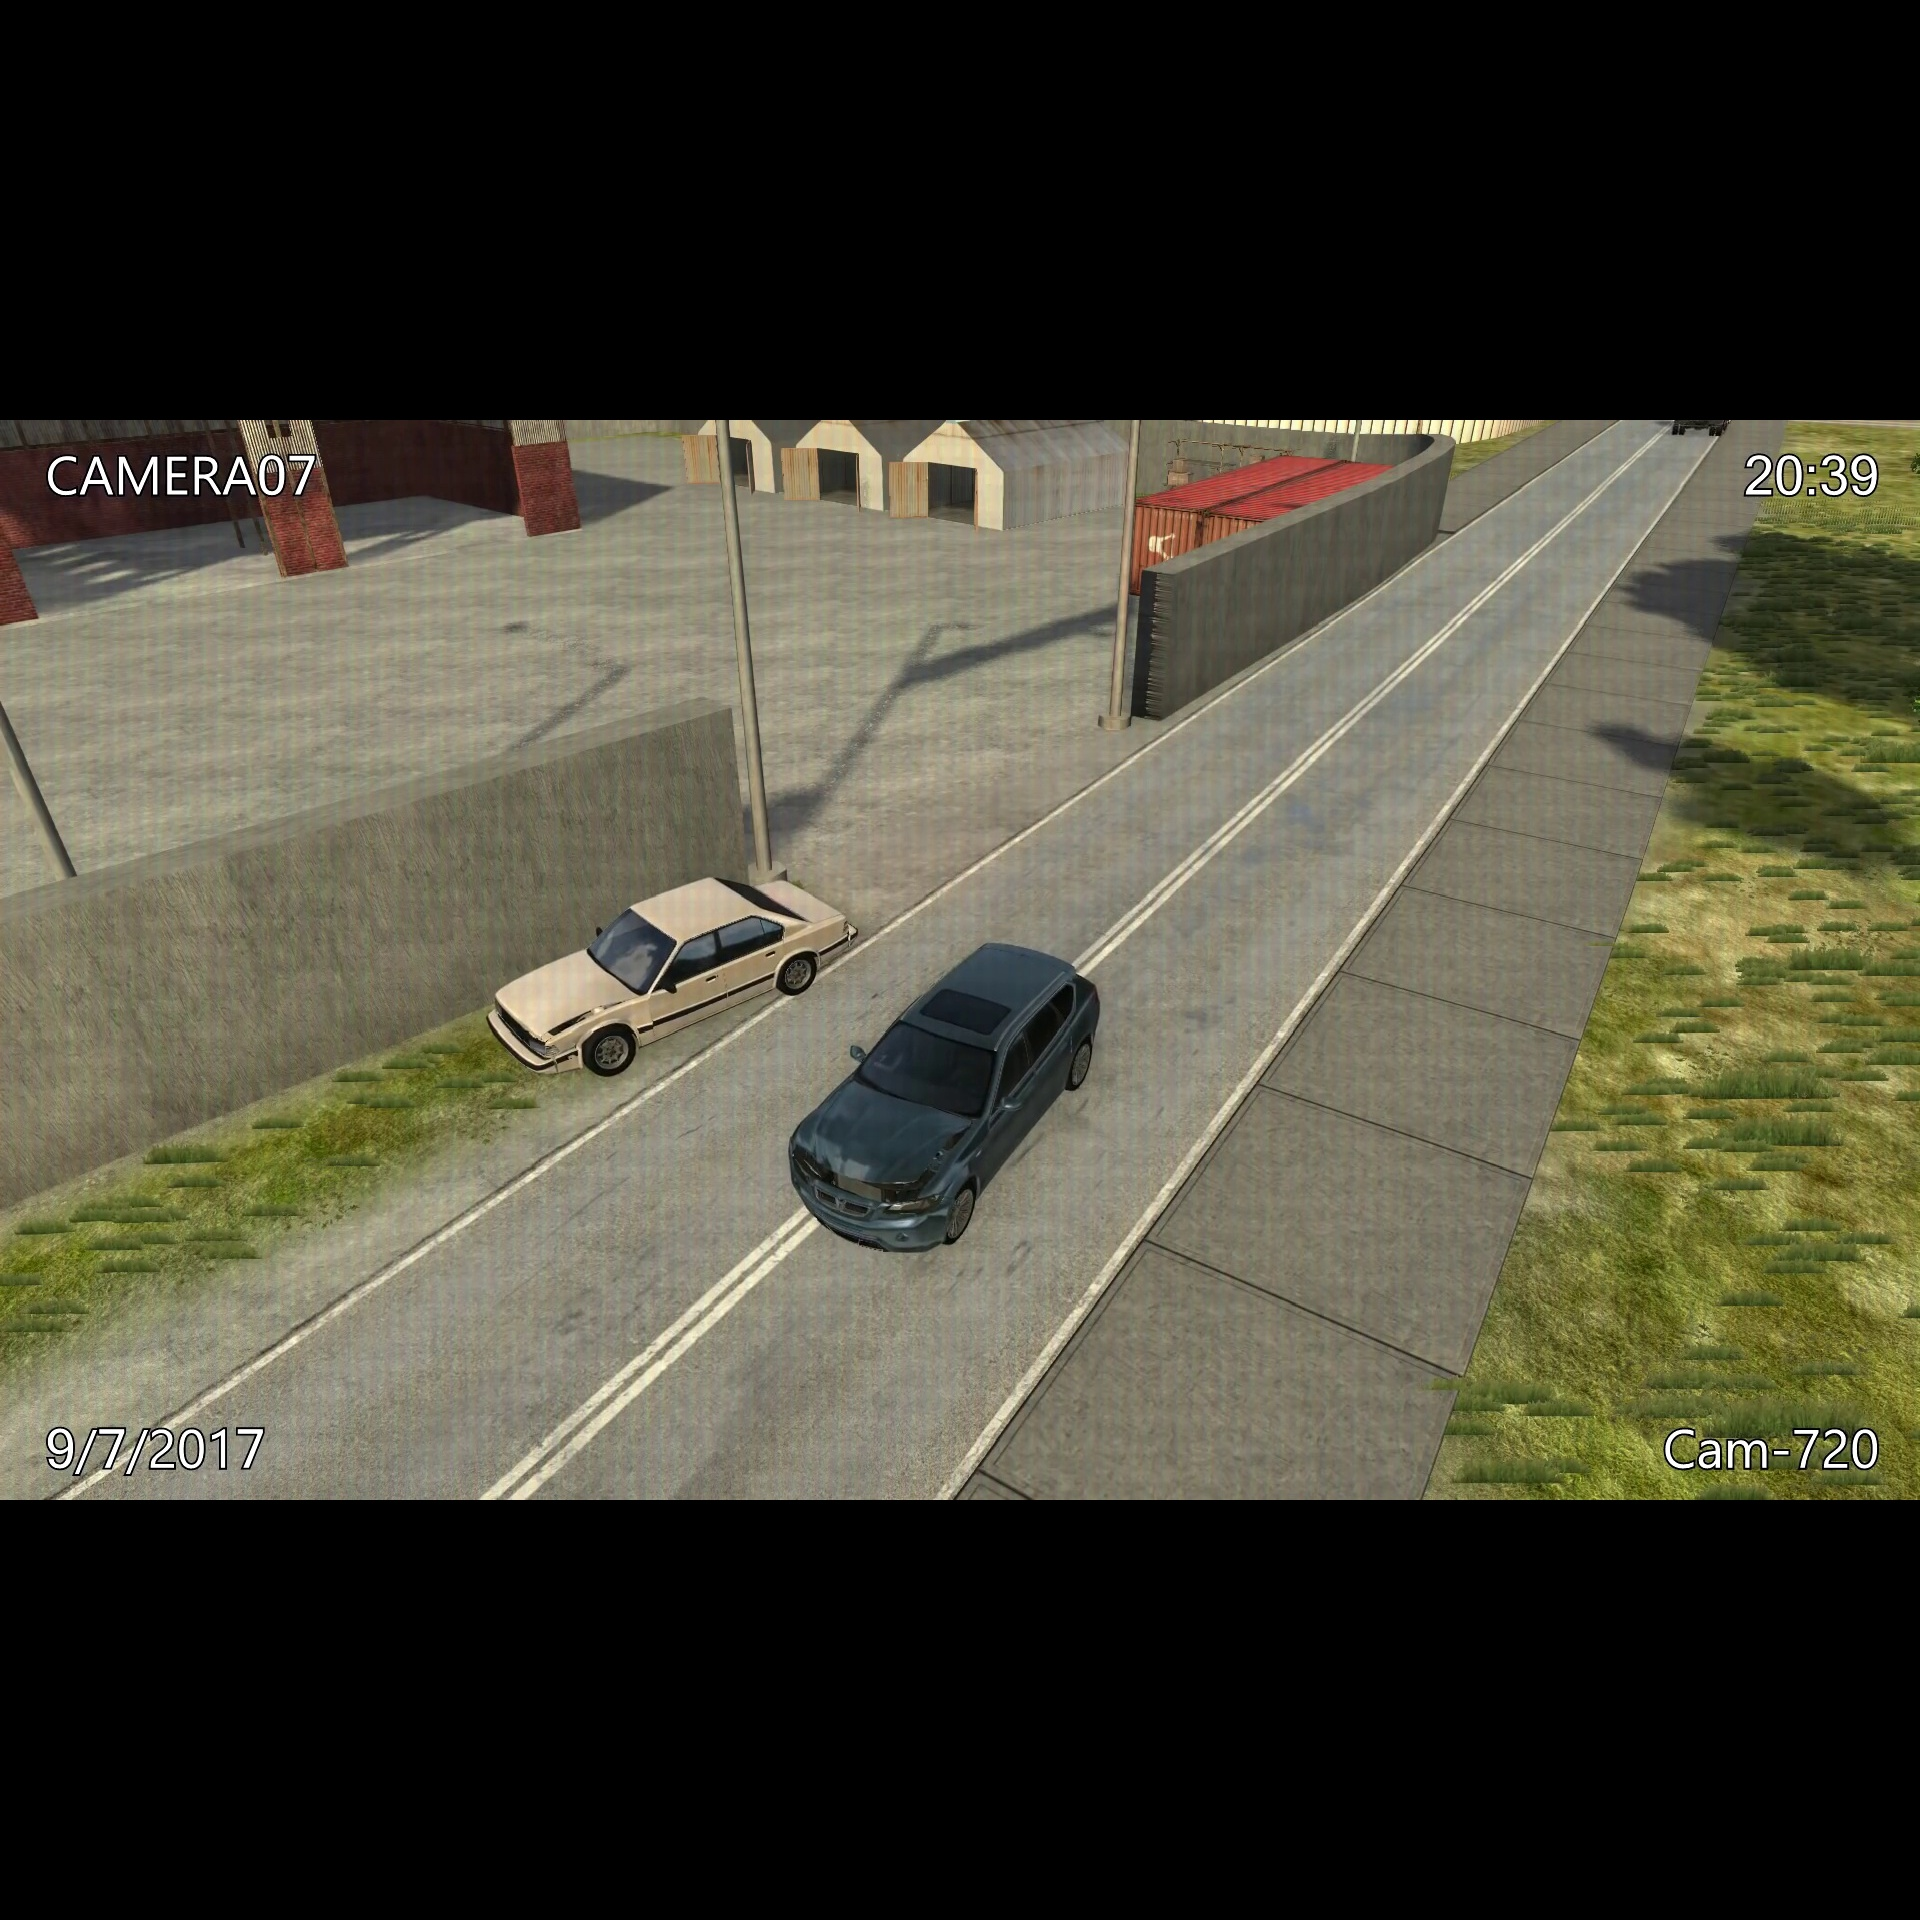vehicle: (781, 930, 1111, 1257), (476, 863, 877, 1087)
